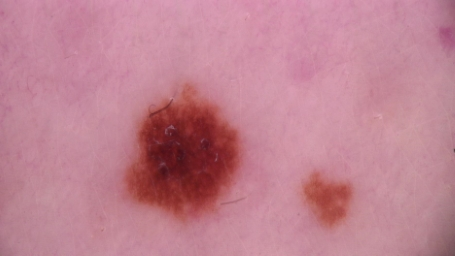nevus: (127, 99, 236, 220), (307, 171, 349, 230)
